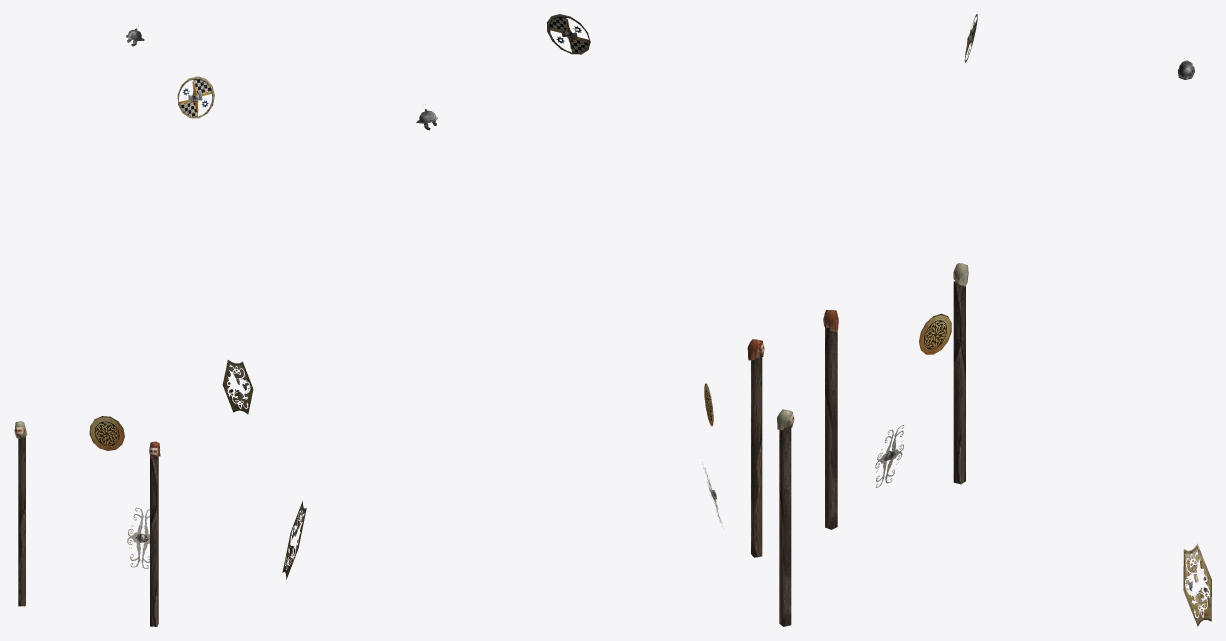
The model's file is celt_broch_shields.dae.
3 renders of one model, left to right at view 1: azimuth 30°, elevation 25°; view 2: azimuth 150°, elevation 25°; view 3: azimuth 270°, elevation 25°, orthographic. The views are drawn at different scales.
Parts seen in each view (by area): view 1: celt_coolus_feathers01; view 2: celt_coolus_feathers01; view 3: celt_coolus_feathers01.
Boxes of the visible parts, left/top/right/bottom form: celt_coolus_feathers01: left=14, top=25, right=253, bottom=626; celt_coolus_feathers01: left=282, top=14, right=794, bottom=626; celt_coolus_feathers01: left=823, top=14, right=1211, bottom=626.
Size of the model in its own units: 15.3 by 12.99 by 20.98.
